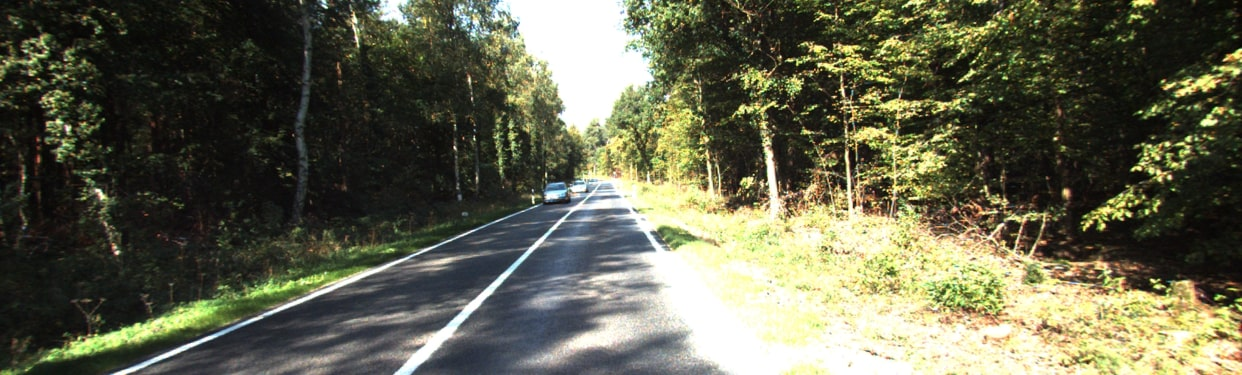car: (541, 180, 569, 205), (569, 178, 588, 194)
